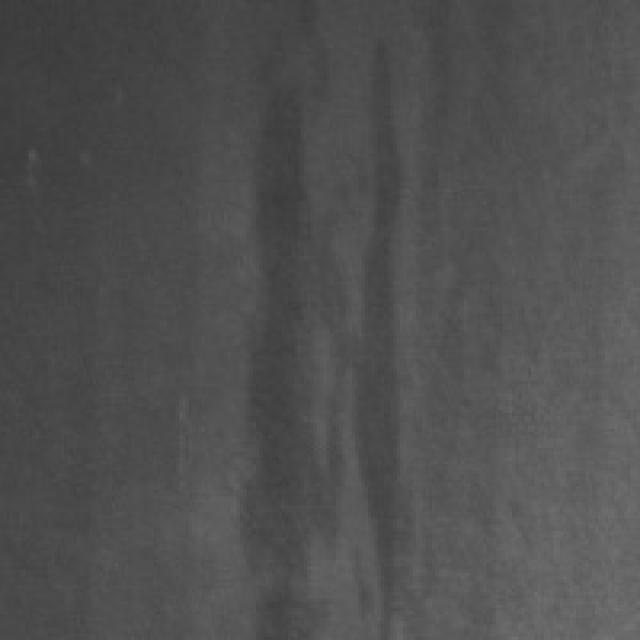inclusion: (237, 29, 400, 630)
